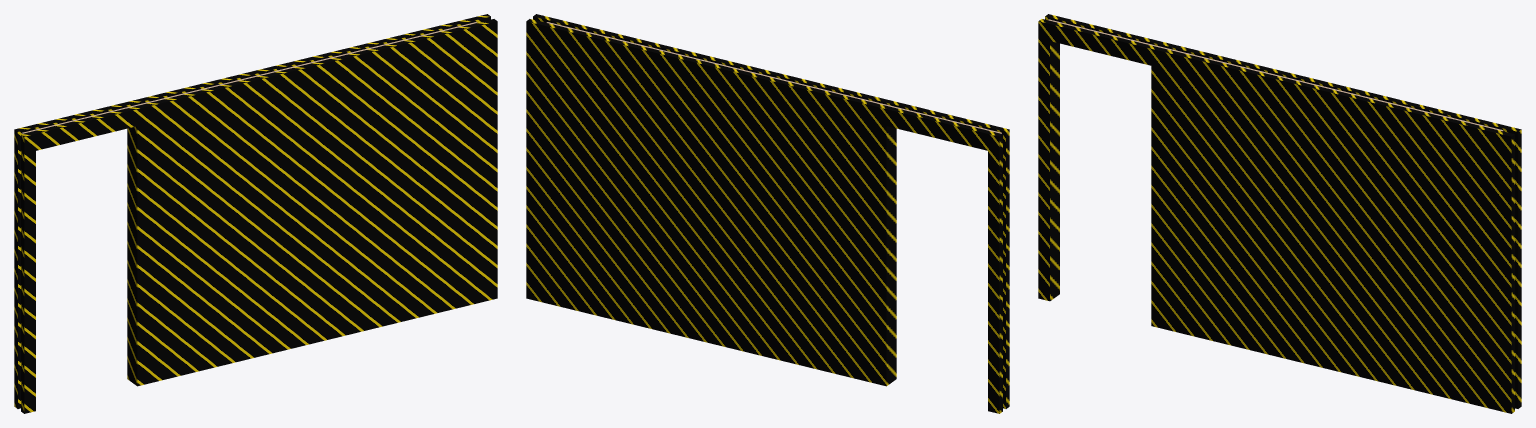
File: WALLSET_K.FBX
3 views of the same model, side by side, from view 1: azimuth 30°, elevation 25°; view 2: azimuth 150°, elevation 25°; view 3: azimuth 330°, elevation 25° (orthographic).
Parts seen in each view (by area): view 1: SELECTOR_13, FRAME_18; view 2: SELECTOR_13, FRAME_18; view 3: SELECTOR_13, FRAME_18.
Part boxes in pixels (x1,y1,x2,y2): SELECTOR_13: (14,14,497,413); FRAME_18: (22,22,477,133); SELECTOR_13: (526,14,1009,413); FRAME_18: (546,22,1001,133); SELECTOR_13: (1038,14,1521,413); FRAME_18: (1048,19,1503,131).
Size of the model in its own units: 161 by 90.29 by 5.88.
